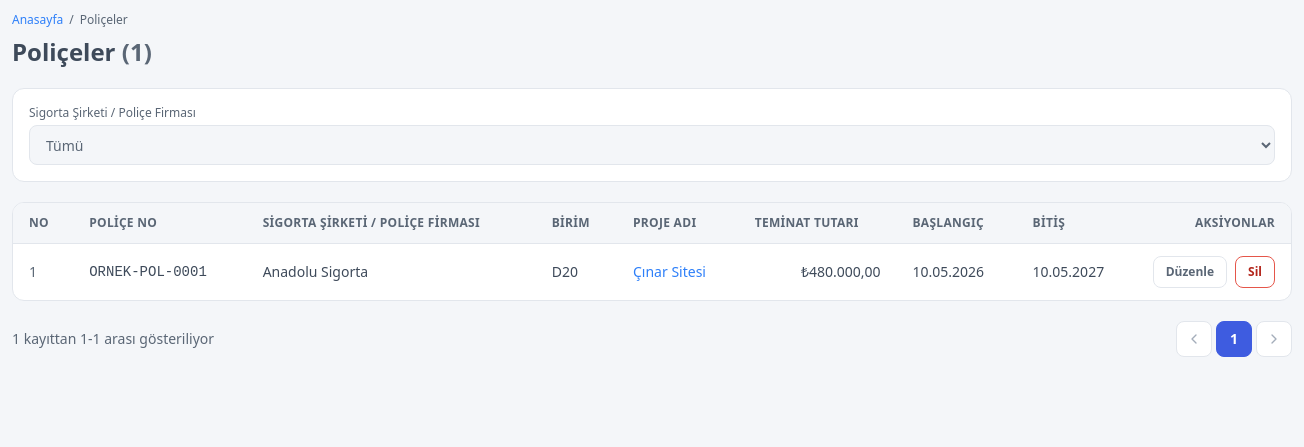
PolicyListPage › filtre uygulanınca kriterler URL'e yazılır ve sayfa 1'e döner
Expected: the table is shown, [13,203,1291,300]
Step 1. Select "Anadolu Sigorta" in the dropdown labelled "Sigorta Şirketi / Poliçe Firması" → (652, 145), box [29,125,1275,165]
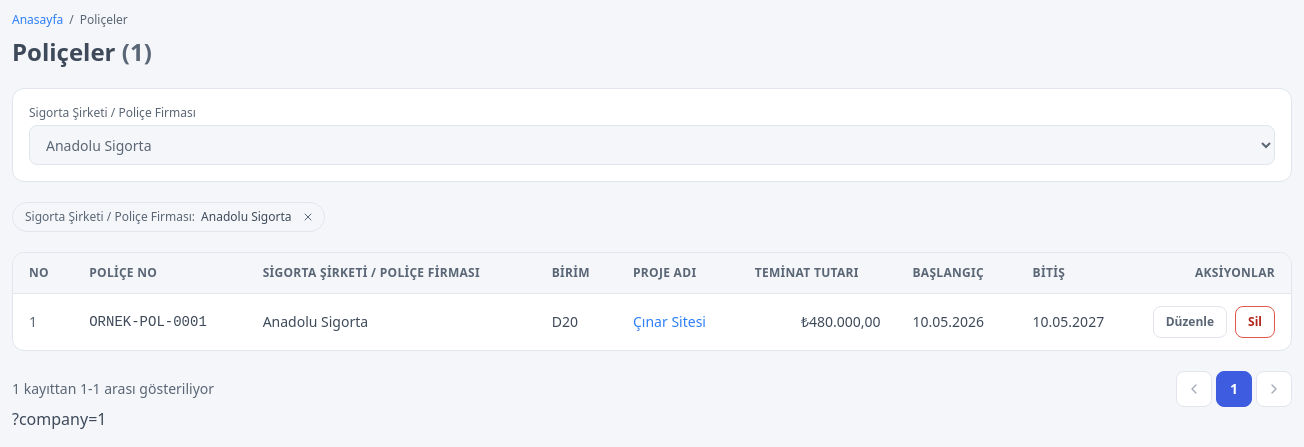
Expected: the text with test id "search" shows "company=1", [12,408,106,430]
